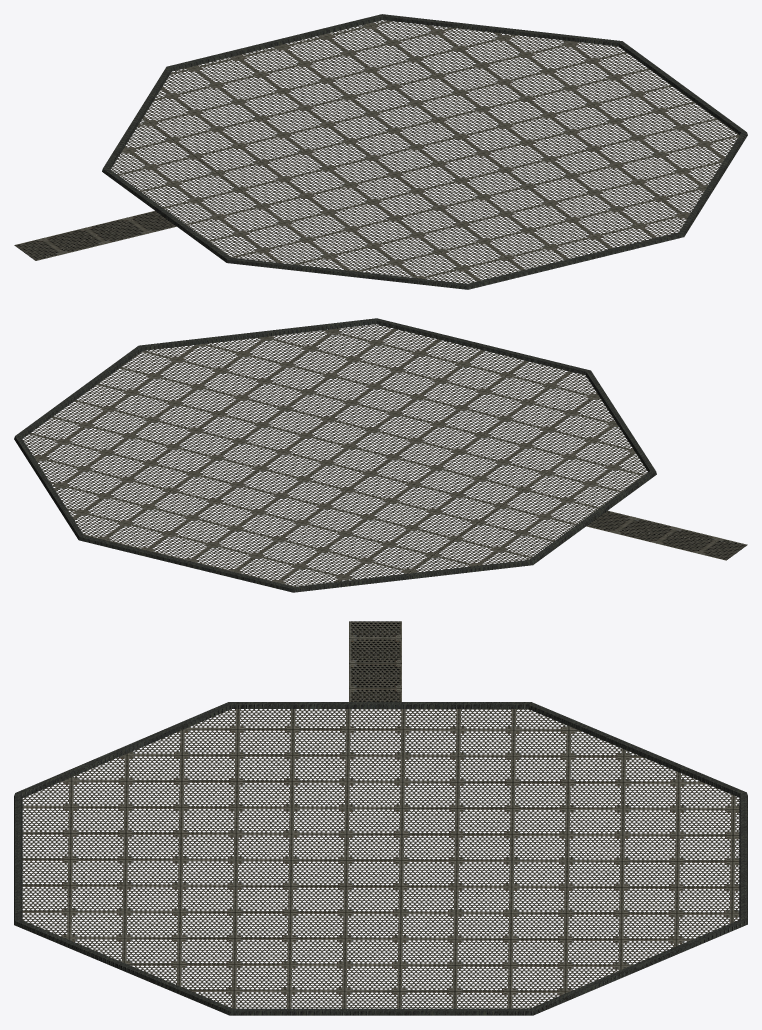
Rendered from sewer_platform.FBX.
3 renders of one model, top to bottom at view 1: azimuth 30°, elevation 25°; view 2: azimuth 150°, elevation 25°; view 3: azimuth 270°, elevation 25°, orthographic. The views are drawn at different scales.
Visible parts, largest first — view 1: sewer_platform; view 2: sewer_platform; view 3: sewer_platform.
Part boxes in pixels (<box>): sewer_platform: <box>14,14,747,289</box>; sewer_platform: <box>14,318,747,592</box>; sewer_platform: <box>14,621,747,1015</box>.
Bounding box in the file's own units: 1319 × 5.92 × 1038.
